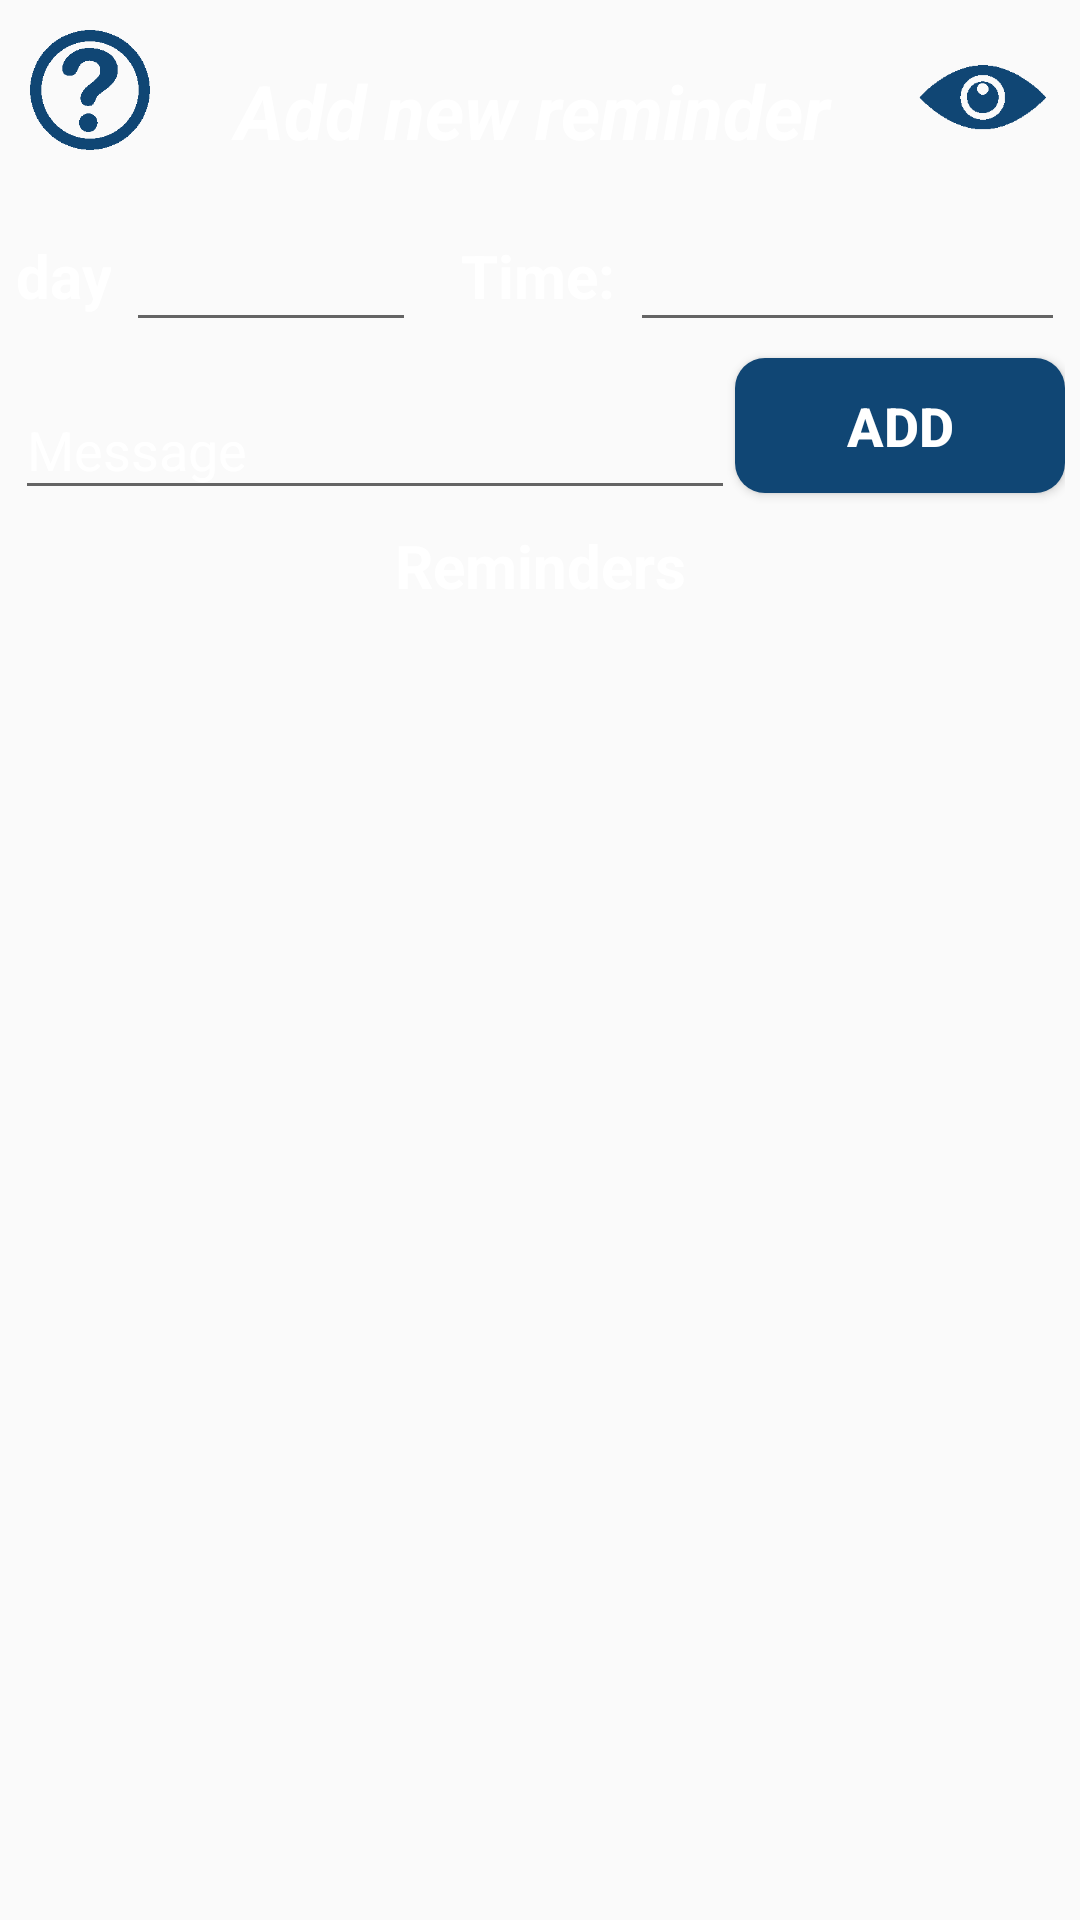

Where to tap for icons on this 1080*1920 app screen, as (x=x, y=y):
eye visible: (x=982, y=97)
question mark: (x=90, y=90)
